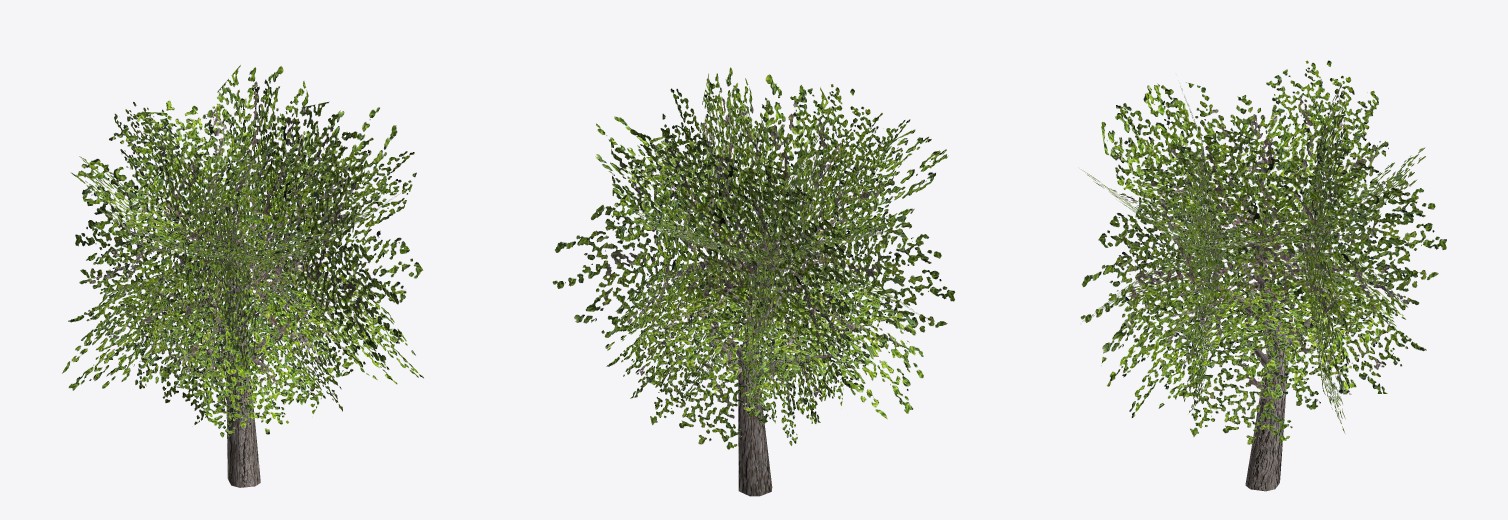
The model's file is tree228.obj.
The picture shows the model from 3 angles, left to right: view 1: azimuth 30°, elevation 25°; view 2: azimuth 150°, elevation 25°; view 3: azimuth 270°, elevation 25°; orthographic projection. The views are drawn at different scales.
Parts seen in each view (by area): view 1: Cylinder.002; view 2: Cylinder.002; view 3: Cylinder.002.
Boxes of the visible parts, x1,y1,x2,y2 form: Cylinder.002: (62,64,424,487); Cylinder.002: (552,67,955,496); Cylinder.002: (1080,60,1446,491).
Bounding box in the file's own units: 7.21 × 7.02 × 7.02.
Materials: 1 (1 with a texture image).
